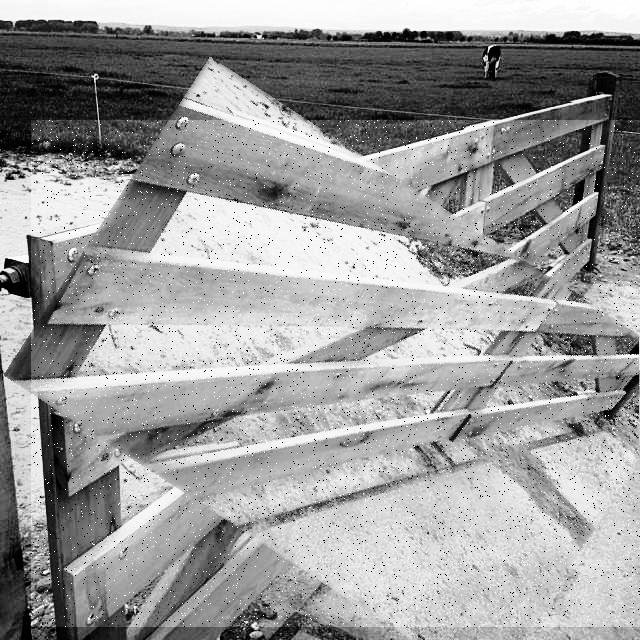fences: (31, 120, 640, 627)
